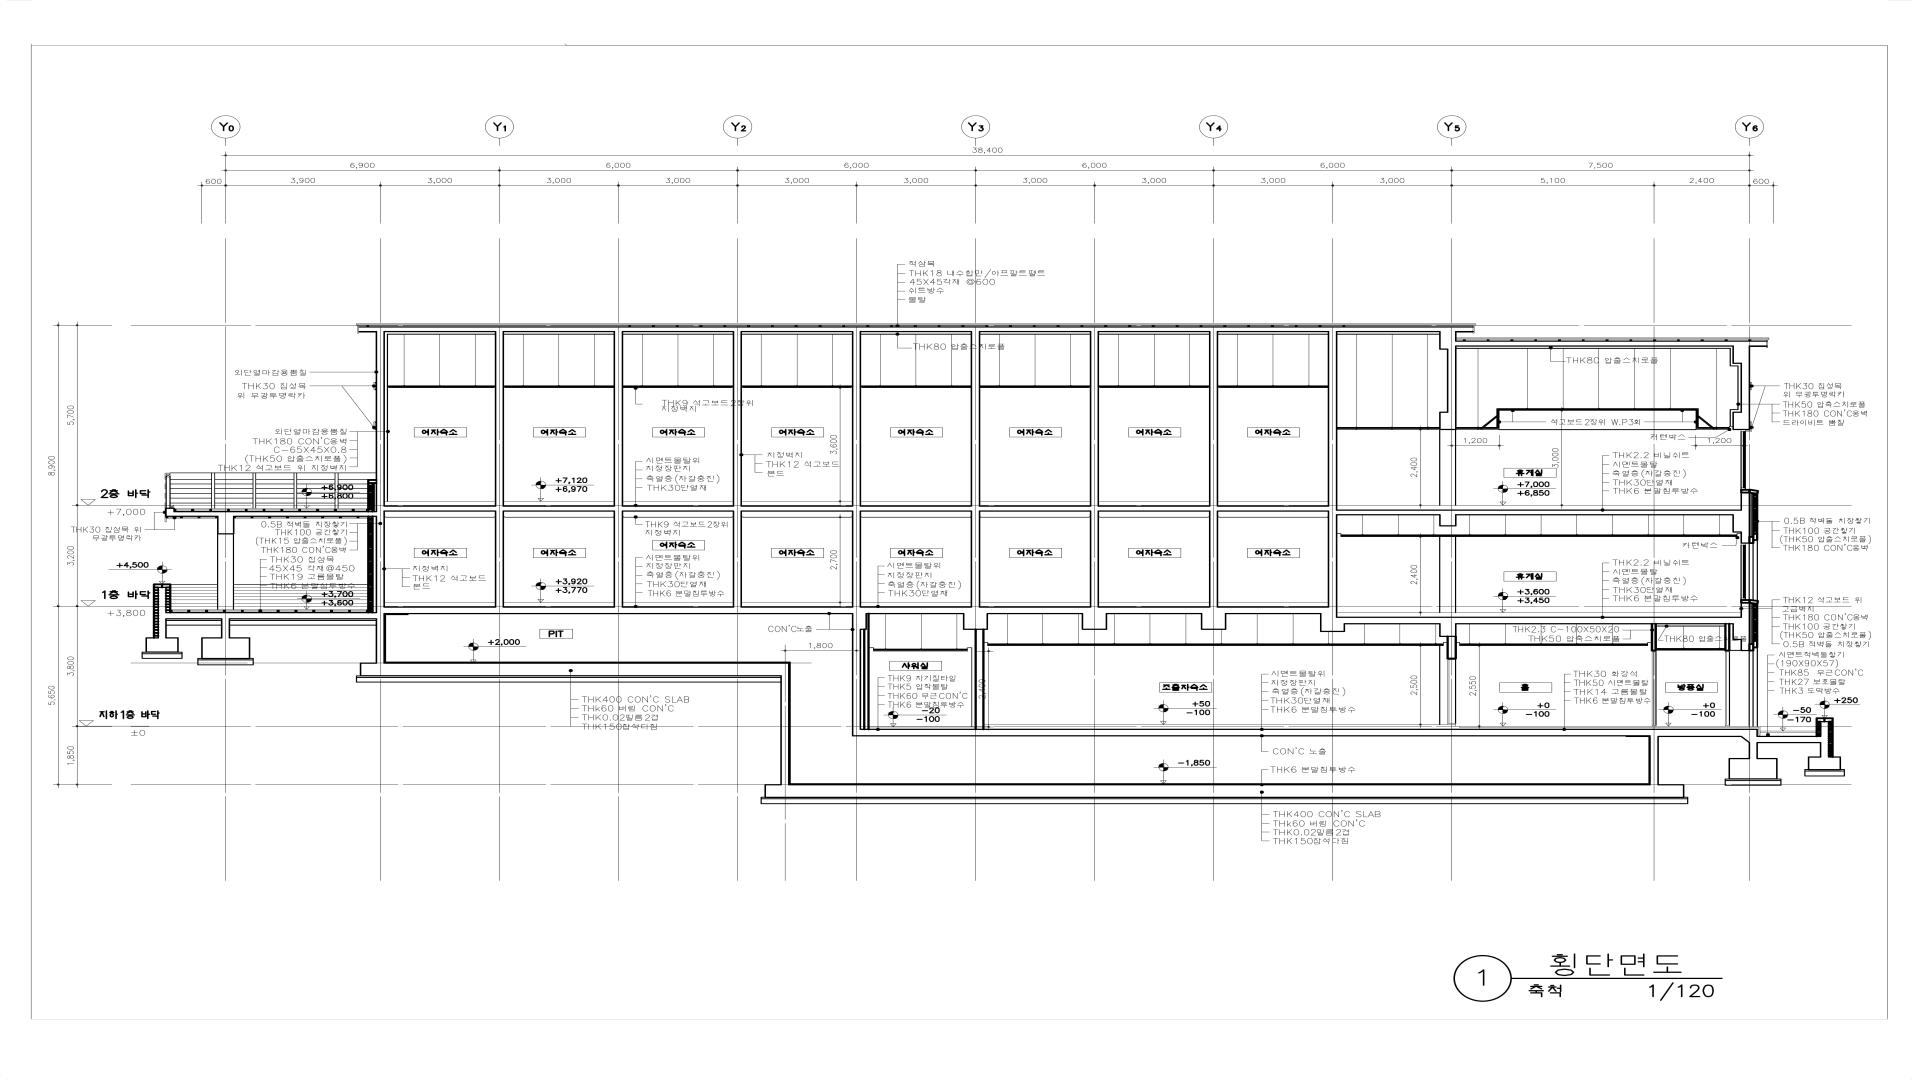door: (1448, 659, 1456, 725), (1651, 651, 1656, 727), (1725, 651, 1730, 727)
wall: (765, 783, 1684, 798), (852, 729, 1758, 744), (359, 326, 1473, 332), (385, 505, 1328, 512), (360, 662, 781, 676), (1439, 332, 1767, 349), (866, 607, 1337, 615), (385, 607, 852, 615), (1345, 617, 1733, 625), (1337, 509, 1733, 516), (1328, 332, 1337, 607), (165, 508, 385, 517), (613, 332, 624, 505), (1089, 332, 1100, 505), (1439, 411, 1457, 505), (166, 612, 376, 620), (376, 332, 385, 512), (1808, 721, 1841, 770), (495, 332, 504, 505), (733, 332, 742, 505), (852, 332, 861, 505), (971, 332, 980, 505), (1209, 332, 1218, 505), (1439, 534, 1456, 613), (376, 517, 385, 662), (218, 534, 235, 609), (781, 662, 791, 783), (202, 637, 251, 659), (975, 630, 985, 729), (1729, 758, 1778, 779), (613, 512, 624, 607), (732, 512, 742, 607), (1733, 489, 1750, 543), (852, 630, 861, 729), (1733, 599, 1750, 651), (495, 512, 504, 607), (852, 512, 861, 607), (971, 512, 980, 607), (1089, 512, 1098, 607), (1209, 512, 1218, 607), (1447, 349, 1457, 411), (145, 637, 179, 653), (157, 587, 167, 637), (1750, 489, 1759, 545), (1648, 737, 1659, 785), (1758, 736, 1820, 744), (1750, 599, 1759, 651), (1741, 364, 1750, 411), (1320, 615, 1345, 632), (1081, 615, 1108, 630), (963, 615, 988, 630), (1201, 615, 1226, 630), (852, 607, 868, 630), (1733, 411, 1750, 430), (218, 517, 235, 534), (1733, 347, 1750, 364), (1447, 637, 1457, 659), (1439, 625, 1457, 637), (1439, 516, 1457, 526), (1651, 625, 1658, 651), (222, 620, 231, 637), (1725, 624, 1730, 651), (1749, 744, 1758, 758)
window: (1749, 647, 1758, 727), (1741, 543, 1750, 600), (1750, 541, 1758, 600), (1741, 430, 1746, 489)
